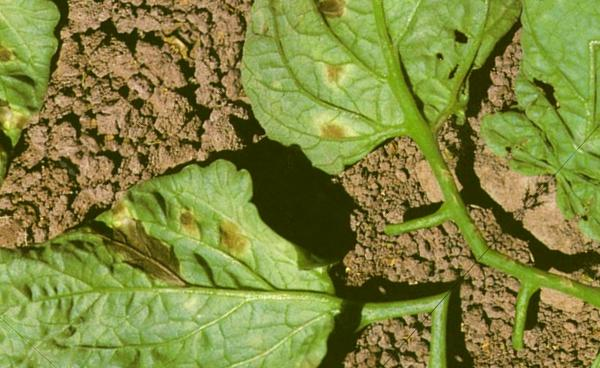Tomato mold leaf: (0, 92, 395, 368), (183, 0, 546, 214)
